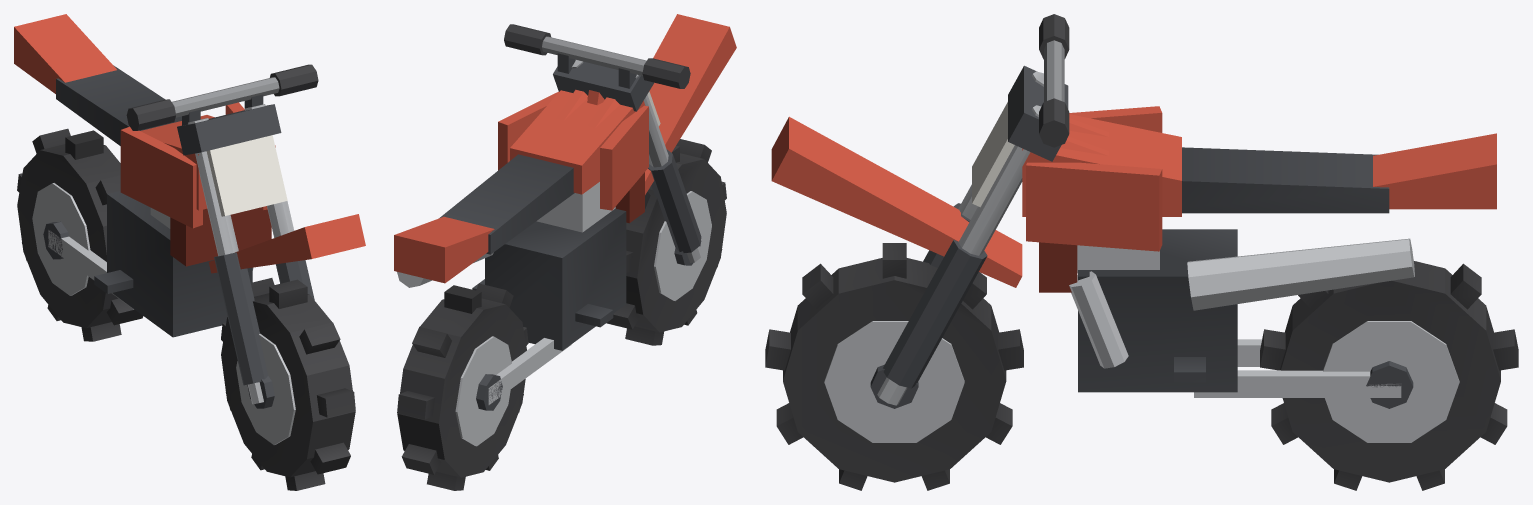
The model's file is moto_bike.glb.
The picture shows the model from 3 angles, left to right: view 1: azimuth 30°, elevation 25°; view 2: azimuth 150°, elevation 25°; view 3: azimuth 270°, elevation 25°; orthographic projection. The views are drawn at different scales.
Visible parts, largest first — view 1: bike_body, bike_forks, bike_wheel_f, bike_wheel_r; view 2: bike_body, bike_wheel_r, bike_forks, bike_wheel_f; view 3: bike_body, bike_wheel_f, bike_wheel_r, bike_forks.
Boxes of the visible parts, x1,y1,x2,y2 form: bike_body: (14,14,275,337); bike_forks: (126,64,365,404); bike_wheel_f: (221,278,355,490); bike_wheel_r: (17,128,143,341); bike_body: (394,89,648,404); bike_wheel_r: (397,283,528,490); bike_forks: (504,14,736,262); bike_wheel_f: (606,139,726,345); bike_body: (1022,106,1496,397); bike_wheel_f: (765,243,1023,490); bike_wheel_r: (1260,261,1518,490); bike_forks: (771,14,1069,405).
Bounding box in the file's own units: 0.315 × 0.5744 × 0.9443.
